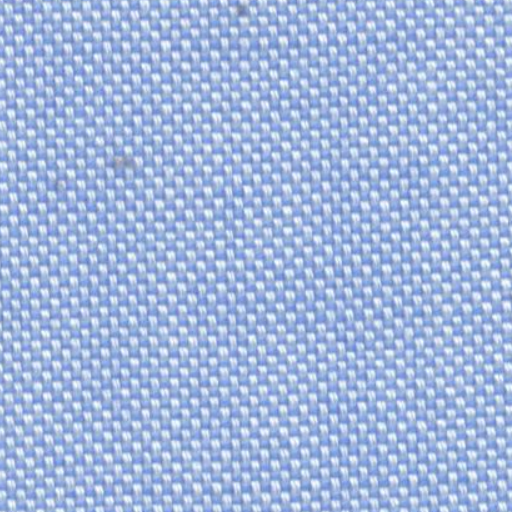WuZi: (104, 143, 140, 174), (228, 2, 258, 31)
